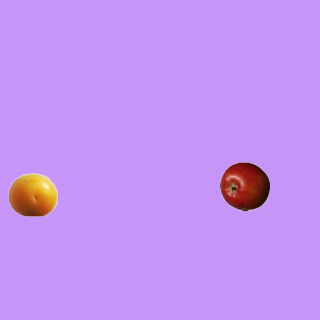Apple Braeburn: (219, 161, 269, 211)
Cherry Wax Yellow: (7, 169, 57, 219)
